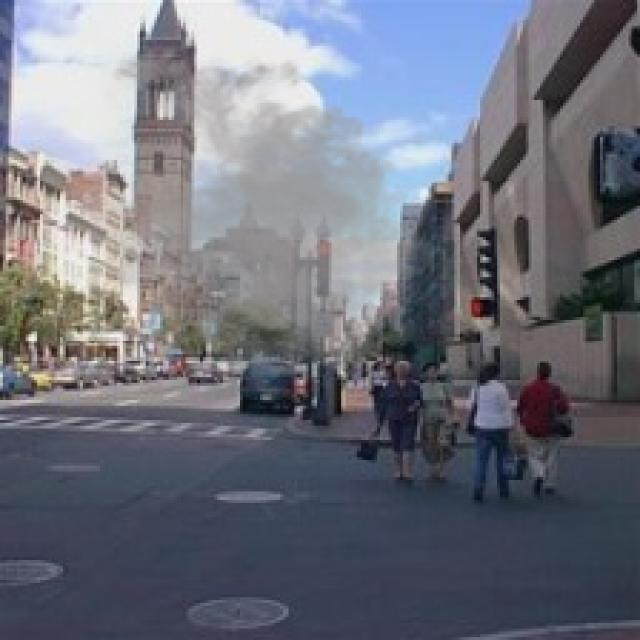Smoke: (46, 37, 448, 403)
